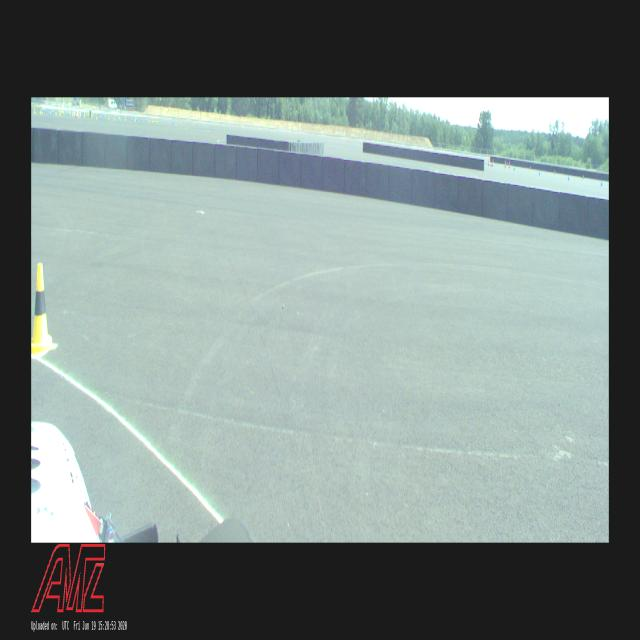yellow_cone: (32, 264, 54, 356)
